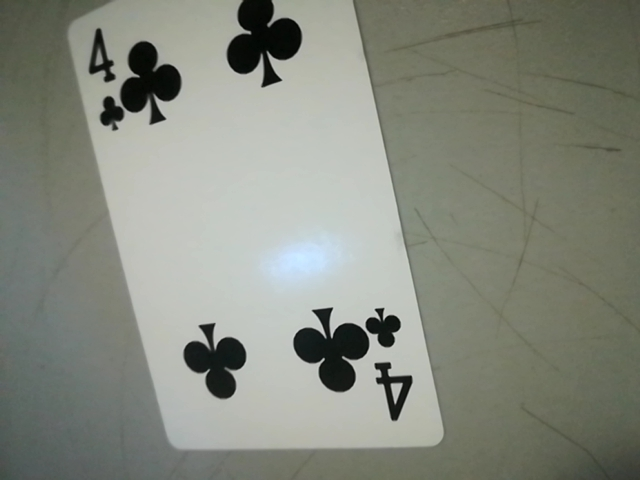mh 4: (360, 296, 426, 433)
